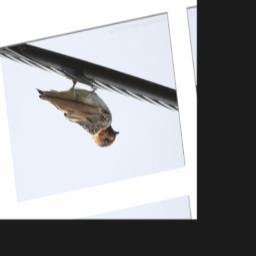Swallow: (33, 67, 122, 163)
